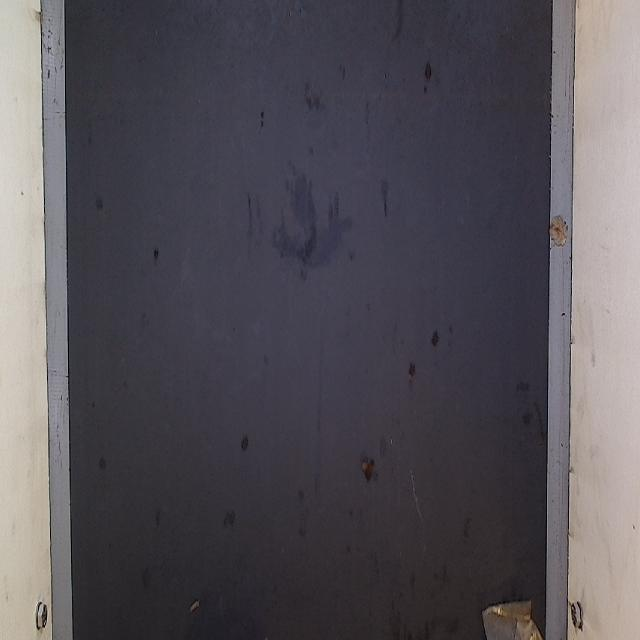plastic_films: (476, 590, 562, 640)
